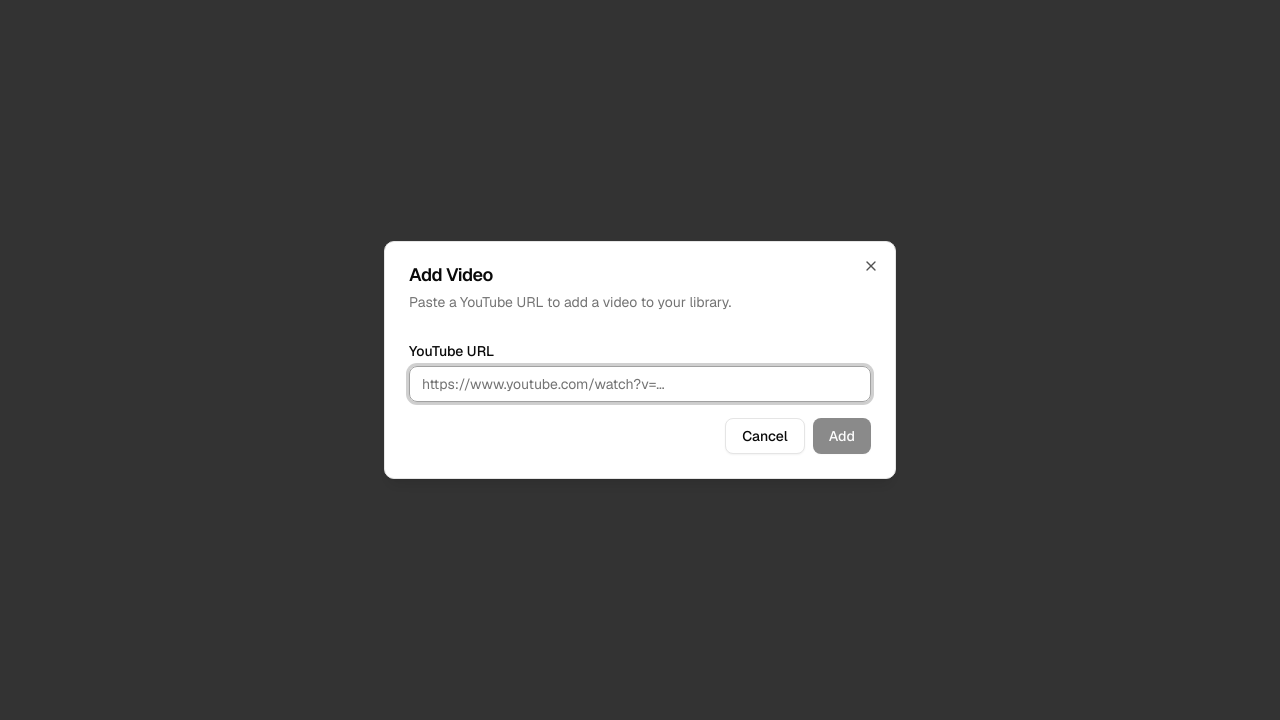
Test: AddVideoModal › form validation › shows client-side validation error for invalid YouTube URL
Type "https://www.google.com" into the field labelled "YouTube URL" at (640, 384), box [409,366,871,402]
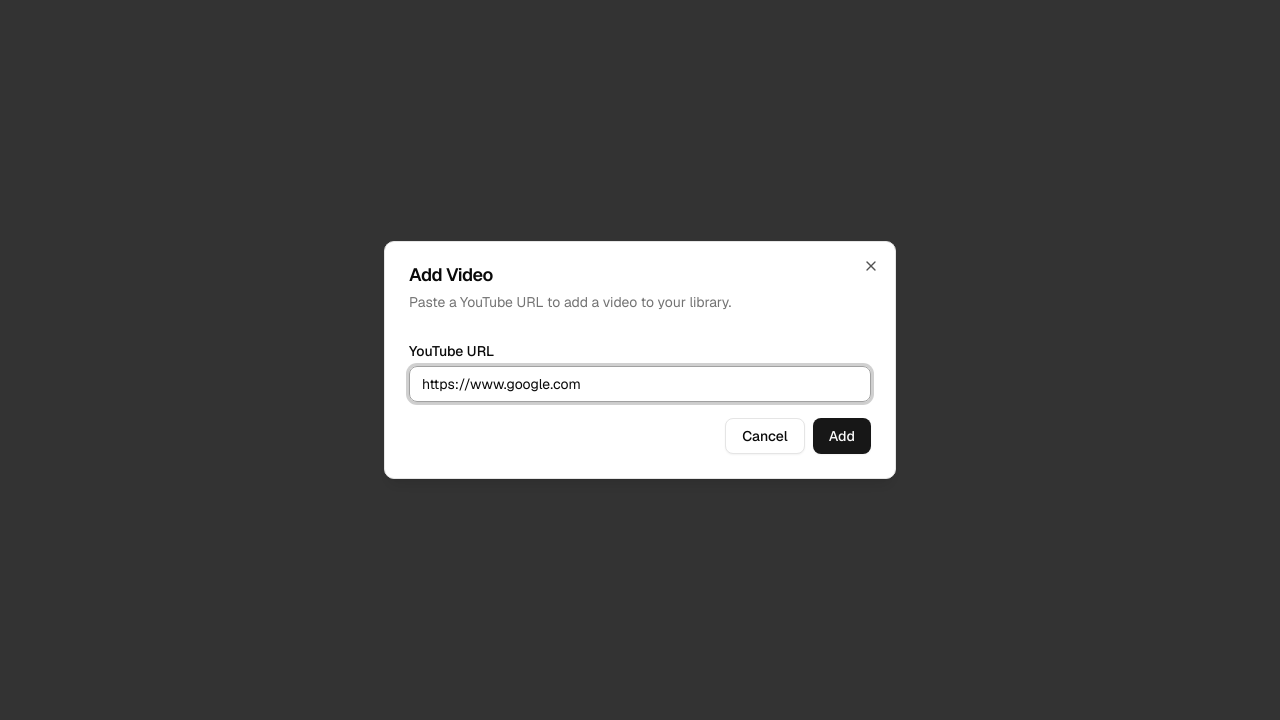
Click the button "Add" at (842, 436), box [813,418,871,454]
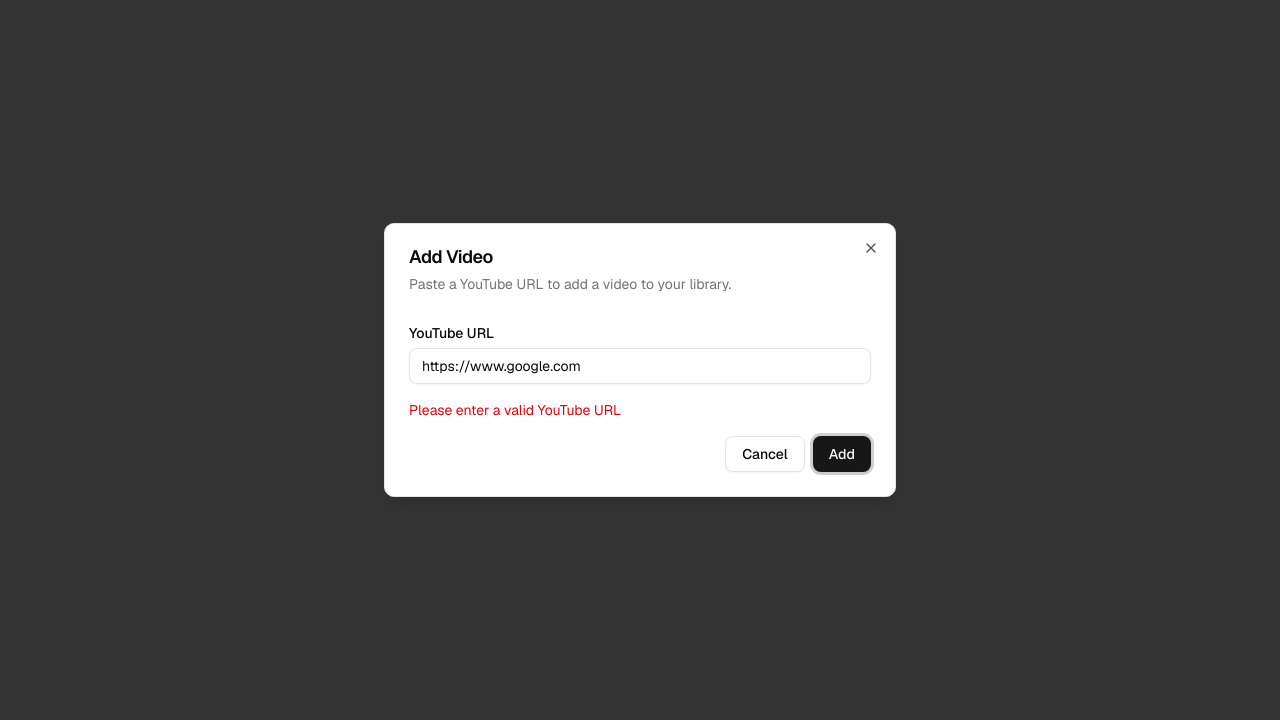
Expected: the message reads "Please enter a valid YouTube URL", [409,401,621,419]
